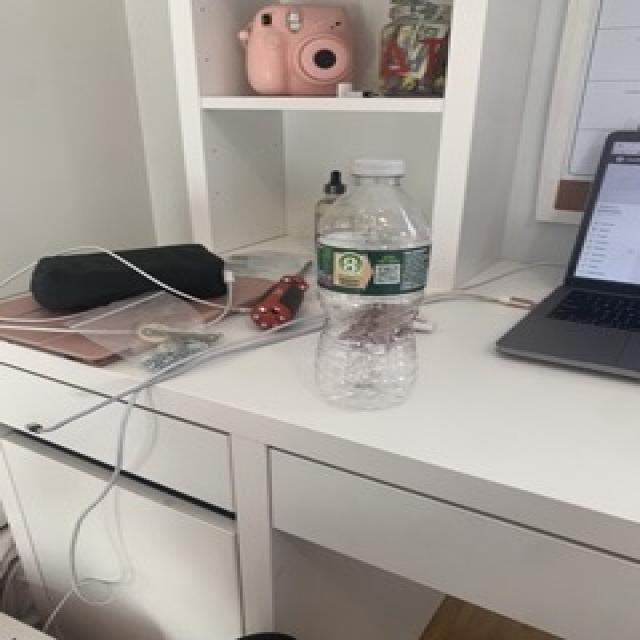water_bottle: (311, 156, 434, 412)
